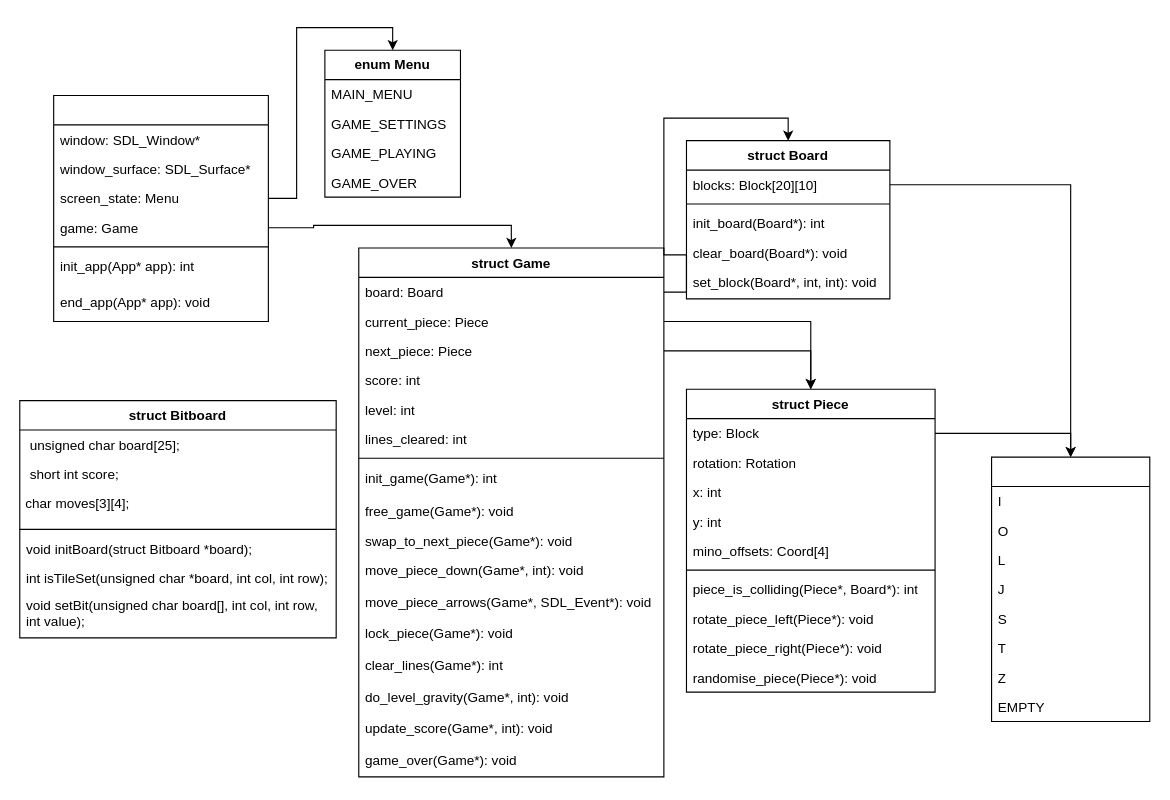
Some shapes in this 1170 by 800 pixel diagram are drawn without their labels. The shapes that lost their labels are listed below. From the top down, each one's box as (x1, y1, x2, y2) in pixels, then its label:
(53, 94, 268, 321): struct App
(990, 456, 1150, 722): enum Block
